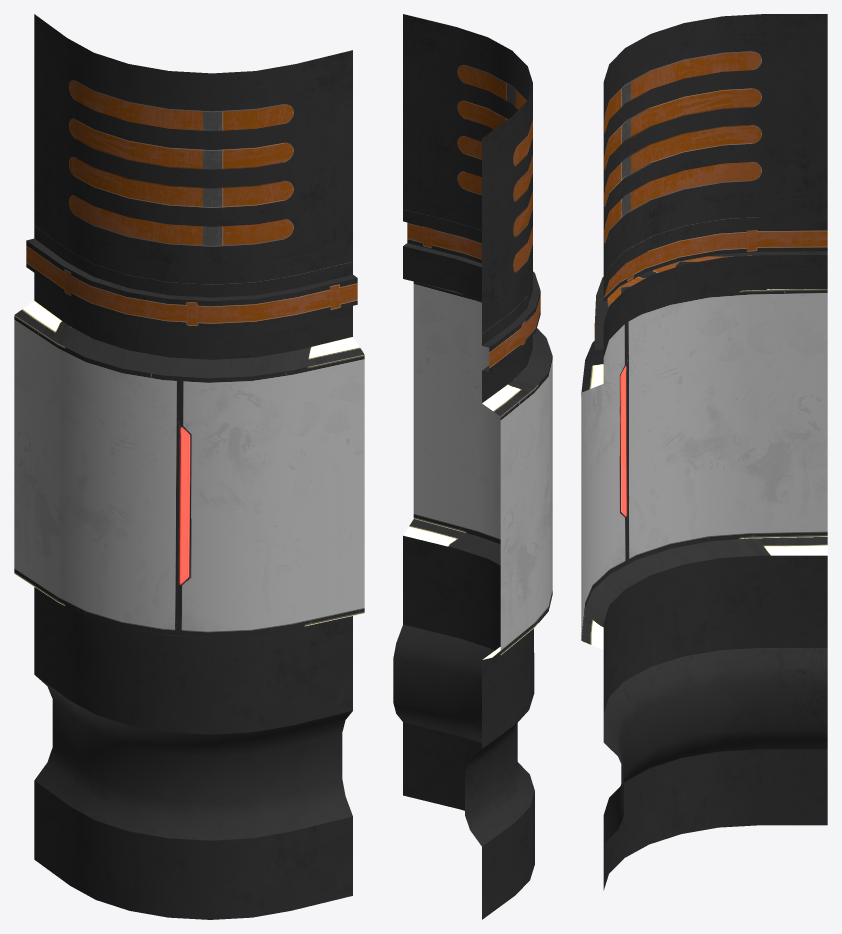
File: SInvertWall.fbx
3 views of the same model, side by side, from view 1: azimuth 30°, elevation 25°; view 2: azimuth 150°, elevation 25°; view 3: azimuth 270°, elevation 25° (orthographic). The views are drawn at different scales.
Visible parts, largest first — view 1: SInvertWall; view 2: SInvertWall; view 3: SInvertWall.
Boxes of the visible parts, box(x1,y1,x2,y2) form: SInvertWall: box(14, 14, 364, 919); SInvertWall: box(393, 14, 552, 919); SInvertWall: box(581, 14, 827, 890).
Bounding box in the file's own units: 137 × 500 × 137.
